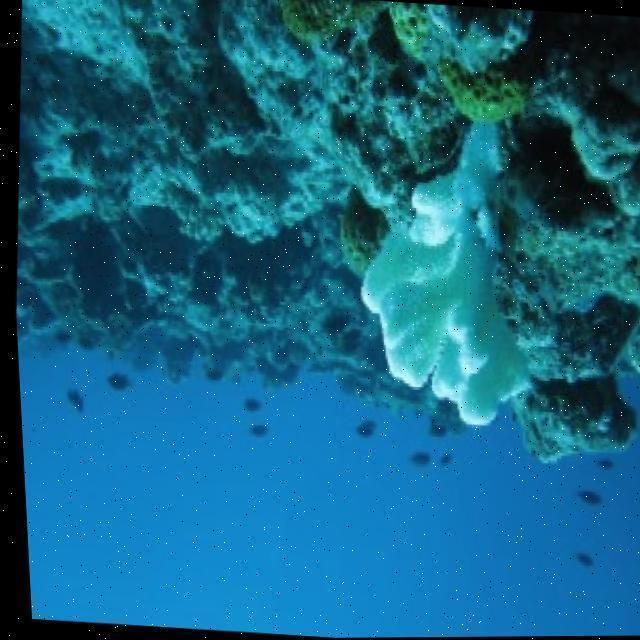Bleached Coral: (331, 92, 561, 483)
